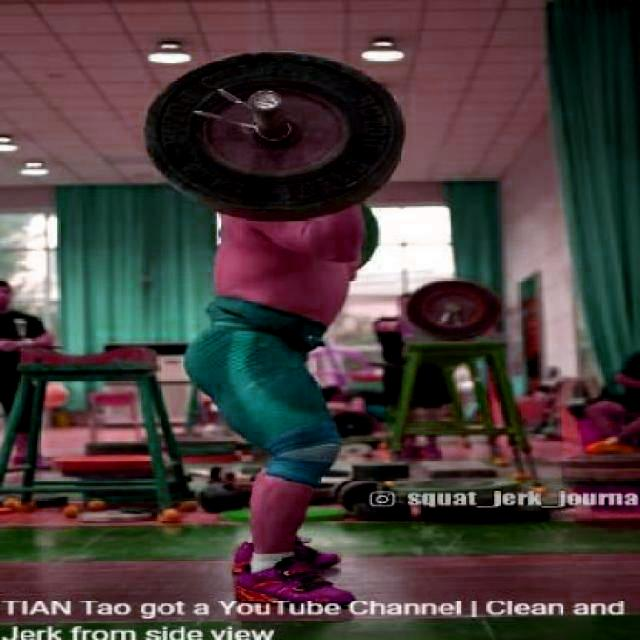barbell: (138, 44, 407, 225)
